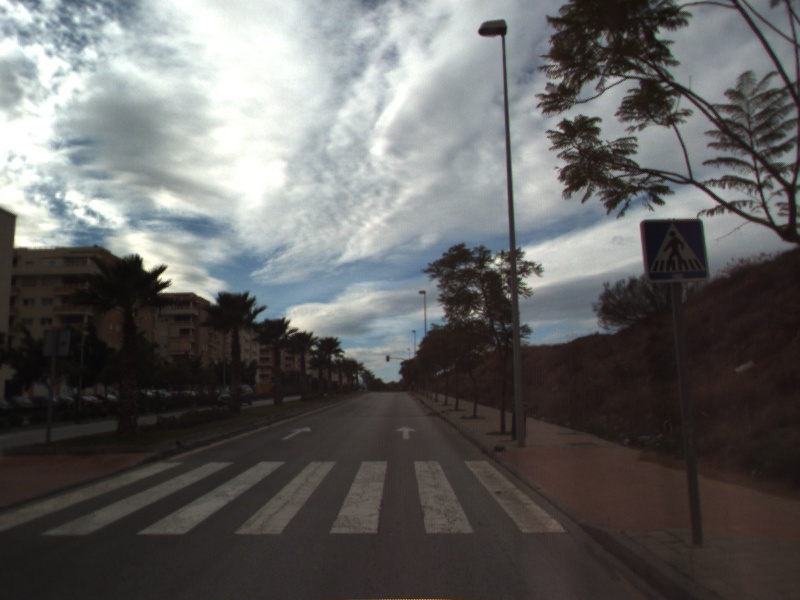STRAIGHT: (279, 425, 313, 442), (394, 424, 418, 441)
